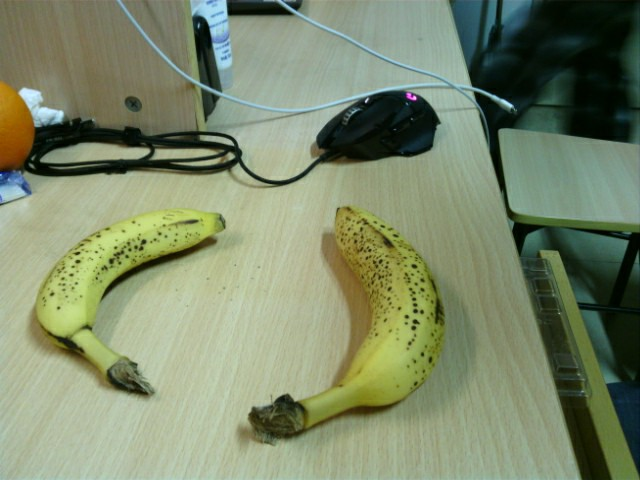normal_banana: (248, 206, 444, 441), (34, 208, 226, 397)
